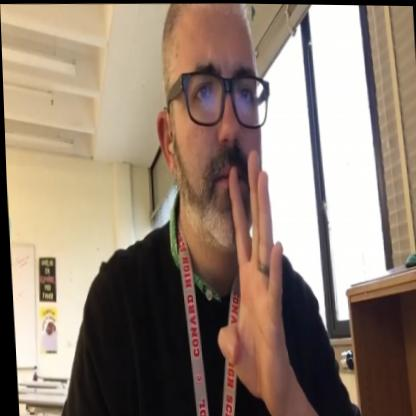Talk: (131, 2, 298, 416)
